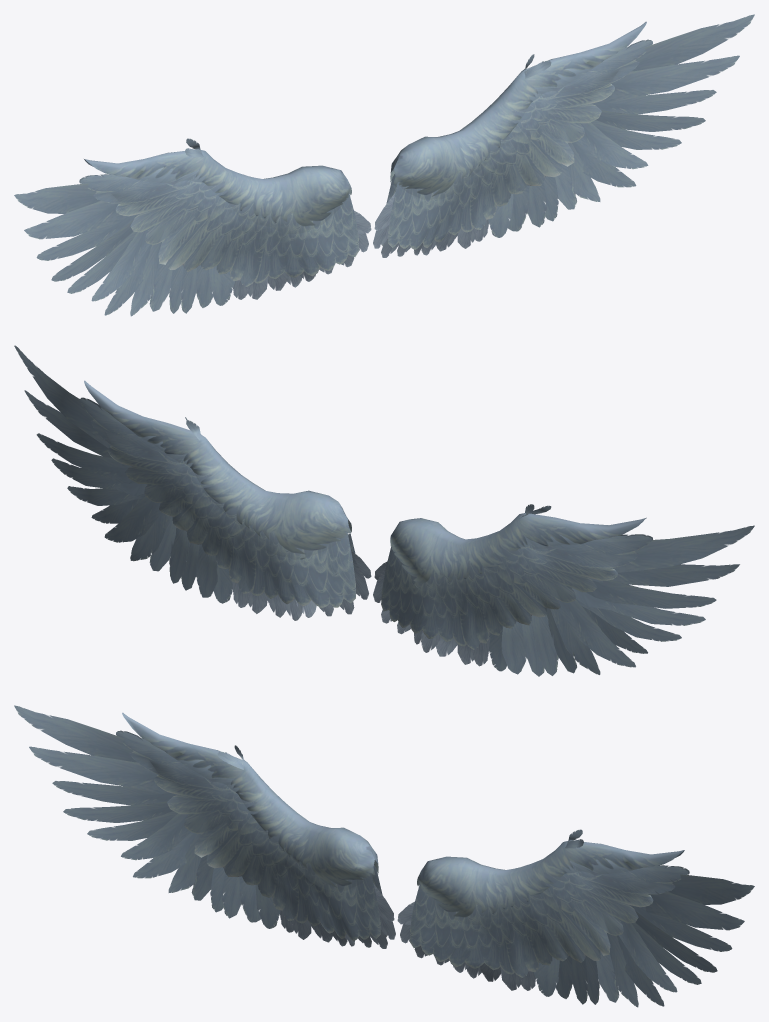
The model's file is hat-transformed.glb.
3 renders of one model, top to bottom at view 1: azimuth 30°, elevation 25°; view 2: azimuth 150°, elevation 25°; view 3: azimuth 330°, elevation 25°, orthographic.
Parts seen in each view (by area): view 1: Object_4; view 2: Object_4; view 3: Object_4.
Part boxes in pixels (<box>): Object_4: <box>14,14,754,316</box>; Object_4: <box>14,345,754,676</box>; Object_4: <box>14,705,754,1007</box>.
Bounding box in the file's own units: 4.01 × 0.9685 × 0.3024.
1 material, 1 textured.
